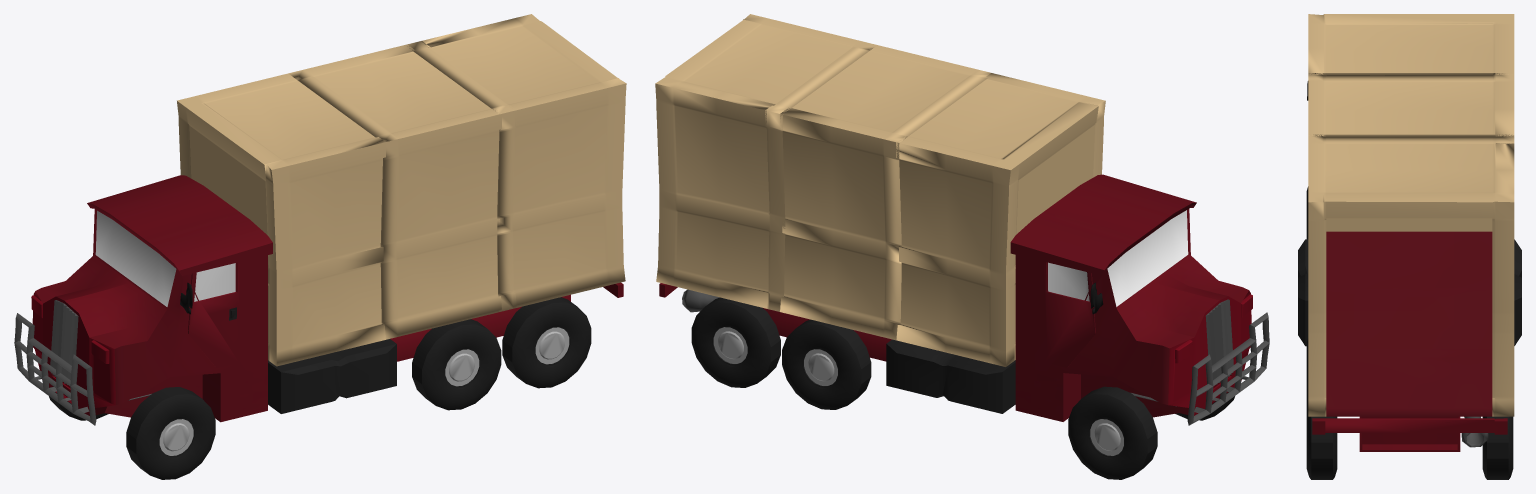
The model's file is LKW.fbx.
The picture shows the model from 3 angles, left to right: view 1: azimuth 30°, elevation 25°; view 2: azimuth 150°, elevation 25°; view 3: azimuth 270°, elevation 25°; orthographic projection. The views are drawn at different scales.
Visible parts, largest first — view 1: LKW; view 2: LKW; view 3: LKW.
Part boxes in pixels (bbox=[...]): LKW: bbox=[14, 14, 626, 479]; LKW: bbox=[655, 14, 1269, 479]; LKW: bbox=[1298, 14, 1521, 479].
Bounding box in the file's own units: 661 × 341 × 222.
Materials: 3 (3 with a texture image).
